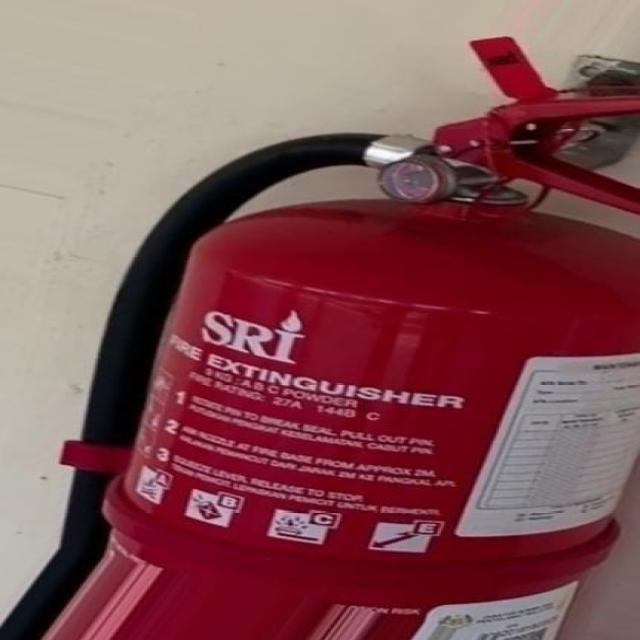fire_extinguisher: (4, 32, 638, 639)
